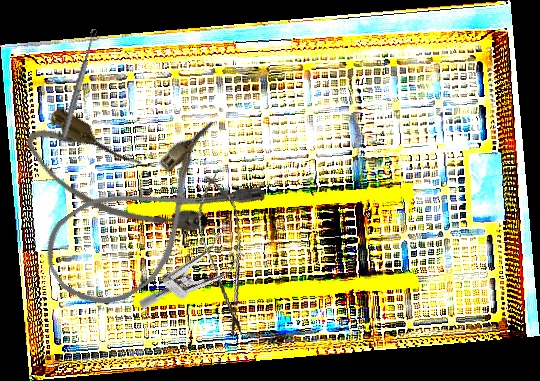Cannula: (30, 117, 270, 325), (15, 100, 219, 266)
Micro Scissor: (190, 168, 259, 343)
Speculum: (136, 213, 255, 338)
Surgical Spoon: (60, 28, 99, 139)
